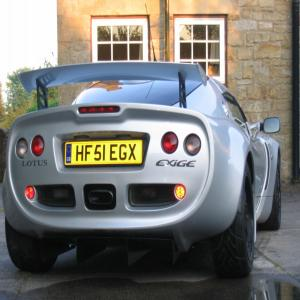Vehicle-registration-plate: (52, 117, 163, 213)
